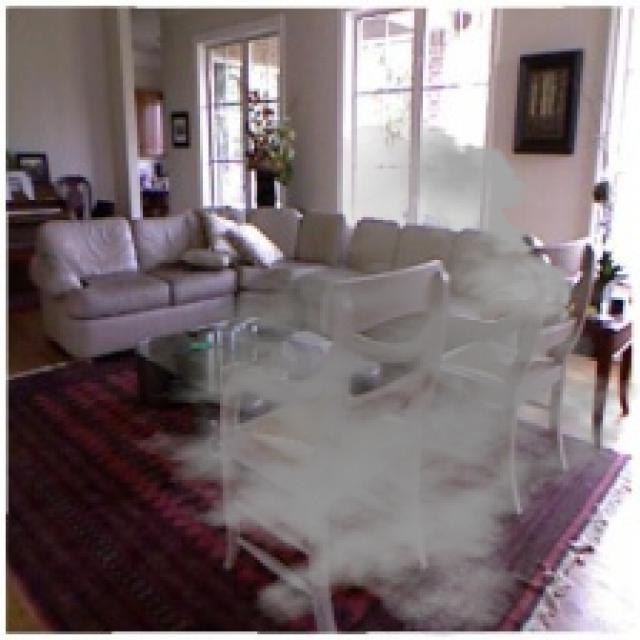smoke: (109, 117, 637, 637)
